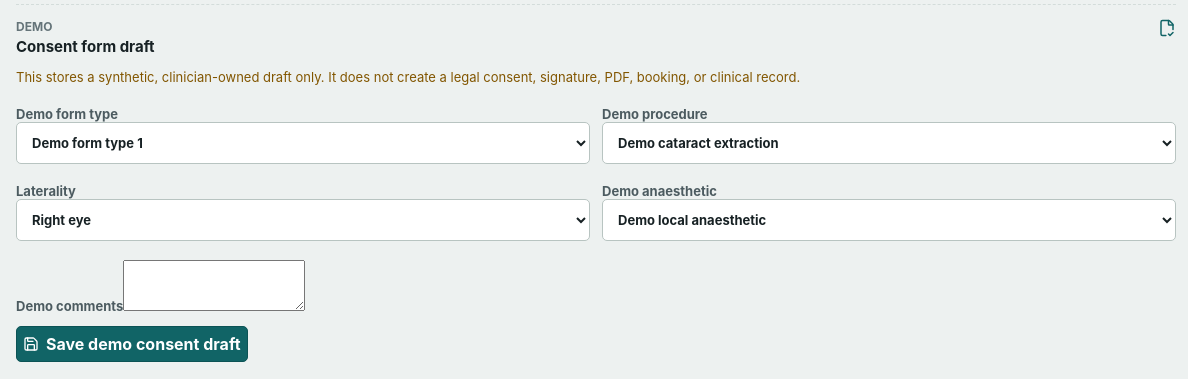
Test: ConsentDraftDemo › saves only the bounded synthetic consent payload
Select "Demo trabeculectomy" in the dropdown named "Demo consent procedure" at (889, 143), box [602,122,1176,164]
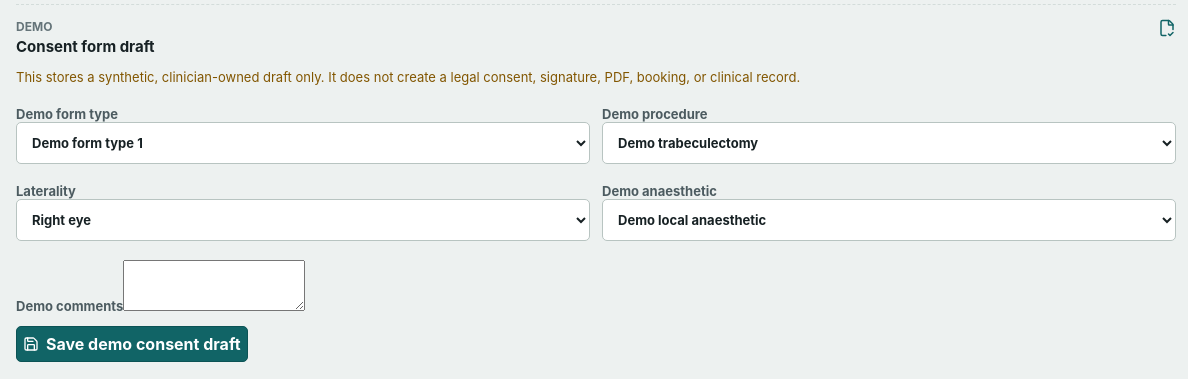
Type "  synthetic note  " into the text box labelled "Demo comments" at (214, 285), box [123,260,305,311]
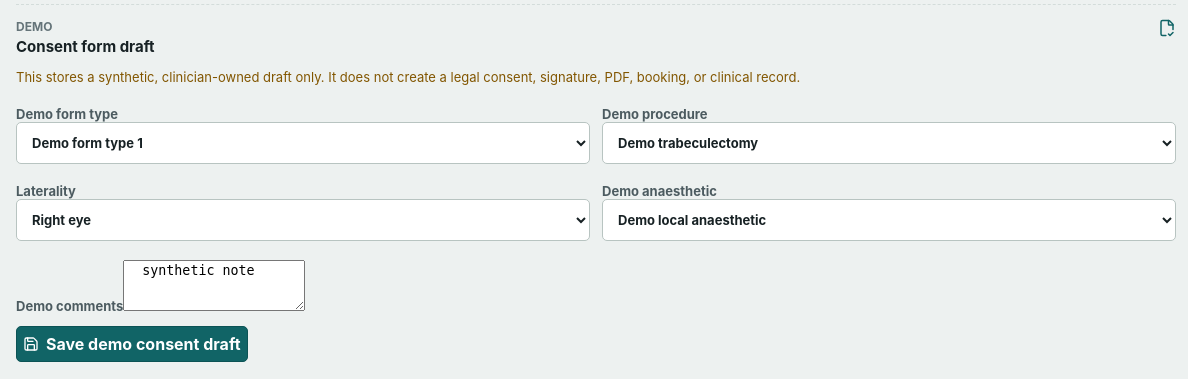
Click the button "Save demo consent draft" at (132, 344), box [16,326,248,362]
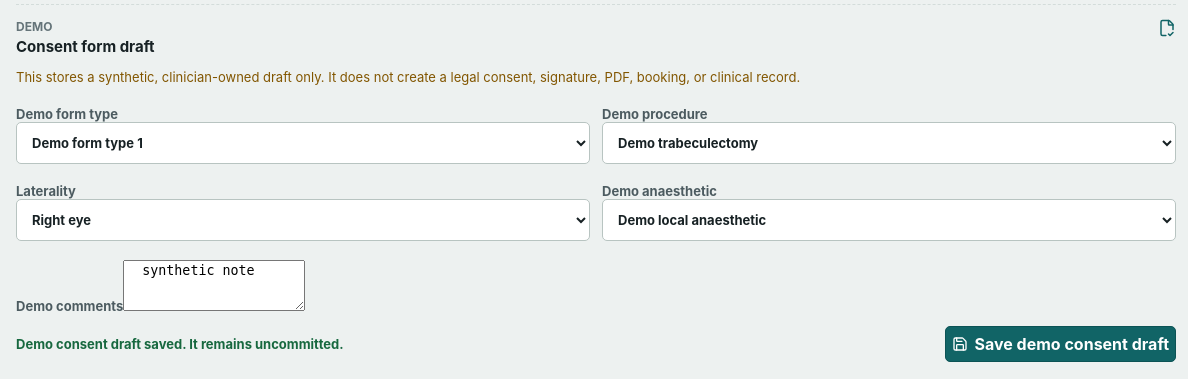
expect the message shows "remains uncommitted": met, box [16,336,344,352]
